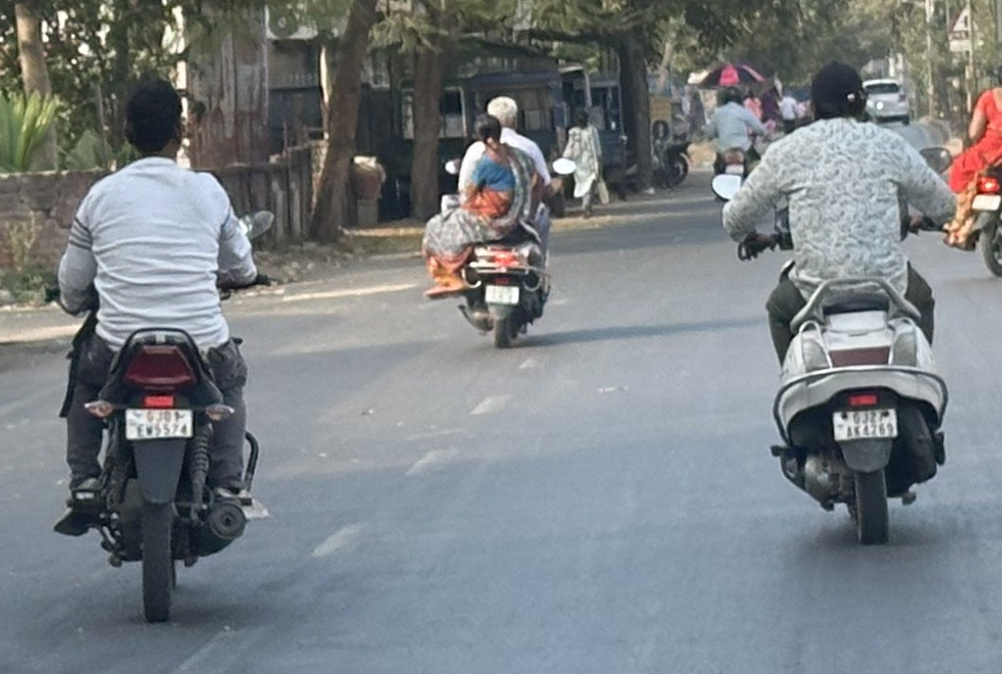BikeWithRider: (35, 79, 291, 634), (712, 56, 969, 555), (413, 90, 582, 352), (699, 81, 771, 216)
NoHelmet: (111, 78, 198, 167), (796, 55, 880, 134), (464, 110, 511, 154), (481, 90, 523, 134)
